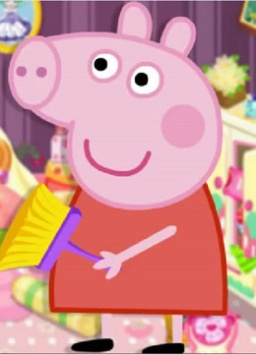Peppa: (5, 1, 232, 354)
